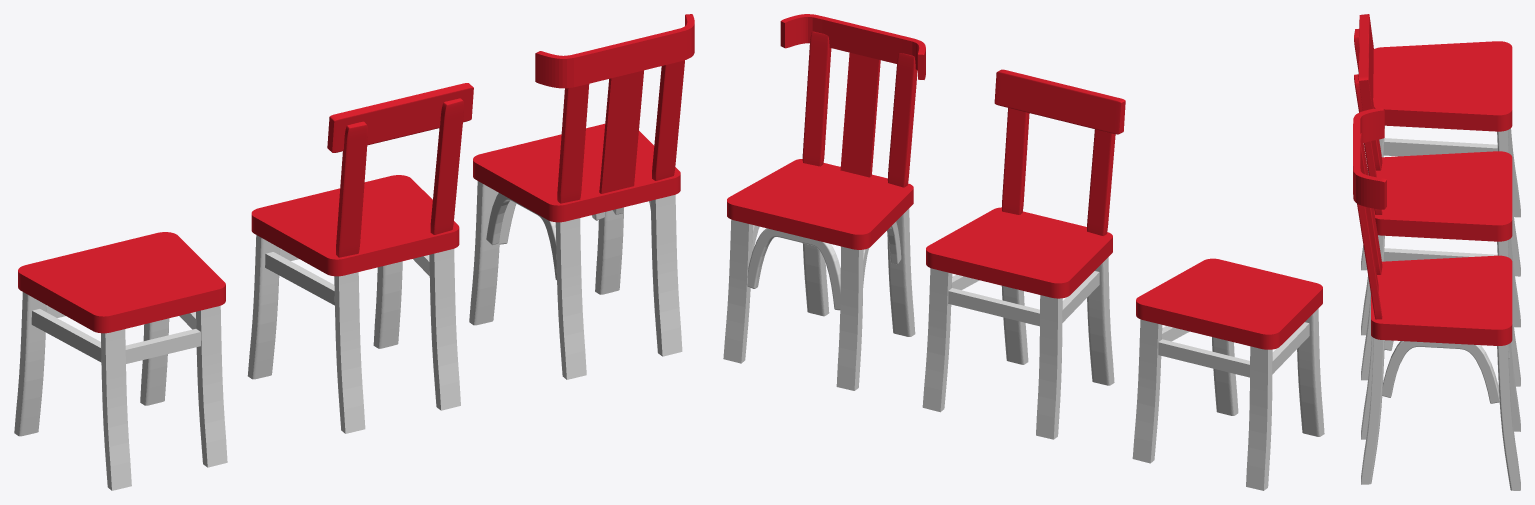
File: interior.fbx
3 renders of one model, left to right at view 1: azimuth 30°, elevation 25°; view 2: azimuth 150°, elevation 25°; view 3: azimuth 270°, elevation 25°, orthographic. The views are drawn at different scales.
Visible parts, largest first — view 1: Cube, Cube.008, Cube.014; view 2: Cube, Cube.008, Cube.014; view 3: Cube, Cube.008, Cube.014.
Part boxes in pixels (bbox=[...]): Cube: bbox=[469, 14, 694, 379]; Cube.008: bbox=[247, 83, 473, 433]; Cube.014: bbox=[14, 232, 227, 490]; Cube: bbox=[723, 14, 925, 390]; Cube.008: bbox=[922, 69, 1125, 439]; Cube.014: bbox=[1132, 258, 1324, 490]; Cube: bbox=[1353, 107, 1520, 490]; Cube.008: bbox=[1354, 14, 1520, 386]; Cube.014: bbox=[1361, 41, 1520, 276].
Bounding box in the file's own units: 1596 × 807 × 391.
